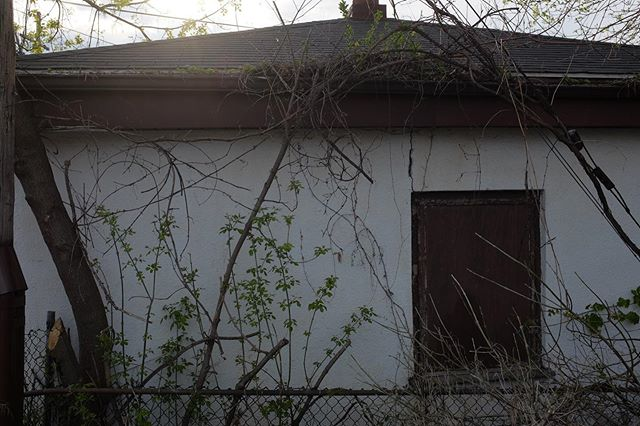building: (43, 23, 640, 426)
vegetation: (21, 37, 640, 426)
window: (407, 195, 543, 378)
